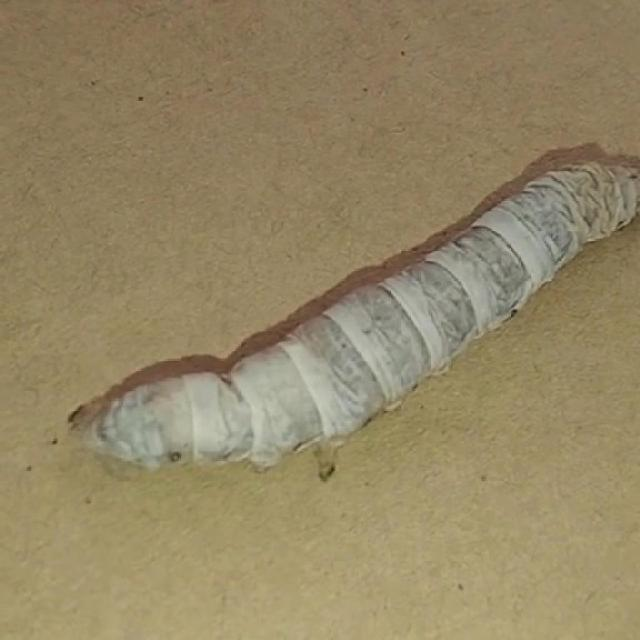Grasserie: (56, 122, 630, 493)
